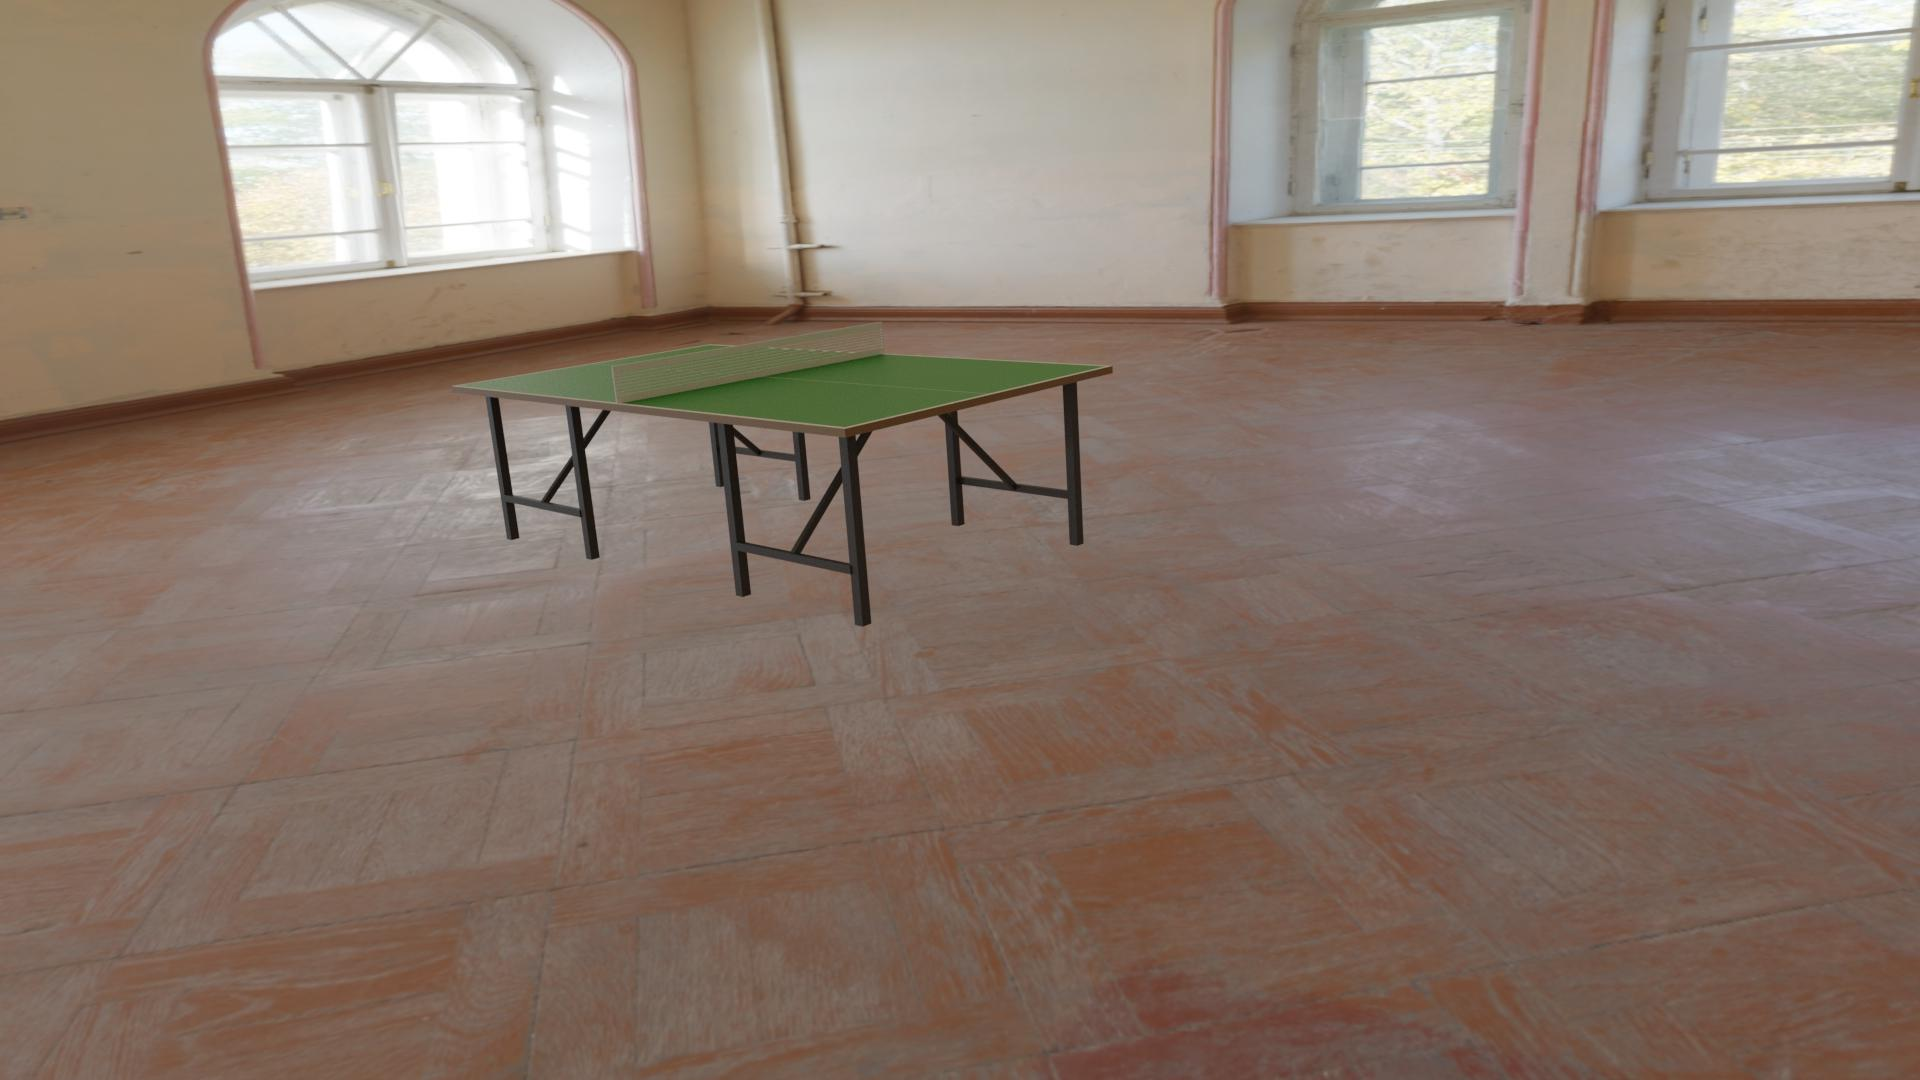table: (458, 345, 1106, 427)
